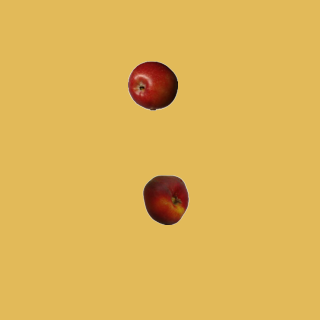Apple Braeburn: (127, 60, 177, 110)
Nectarine Flat: (140, 174, 190, 224)
